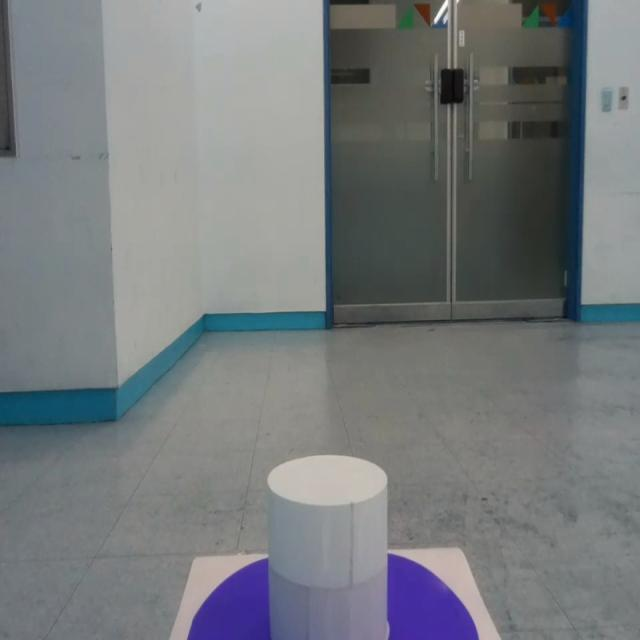cylinder: (266, 456, 390, 640)
